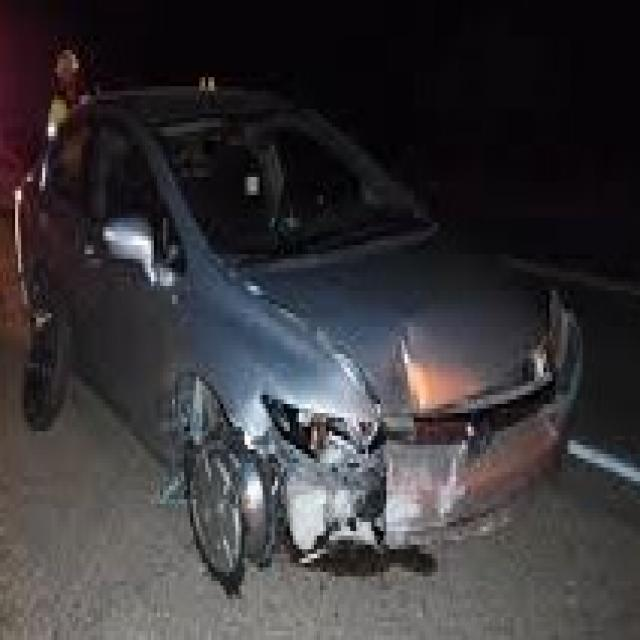severe: (111, 263, 586, 638)
